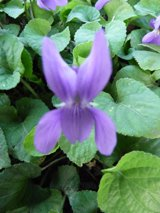violet: (33, 25, 123, 159)
